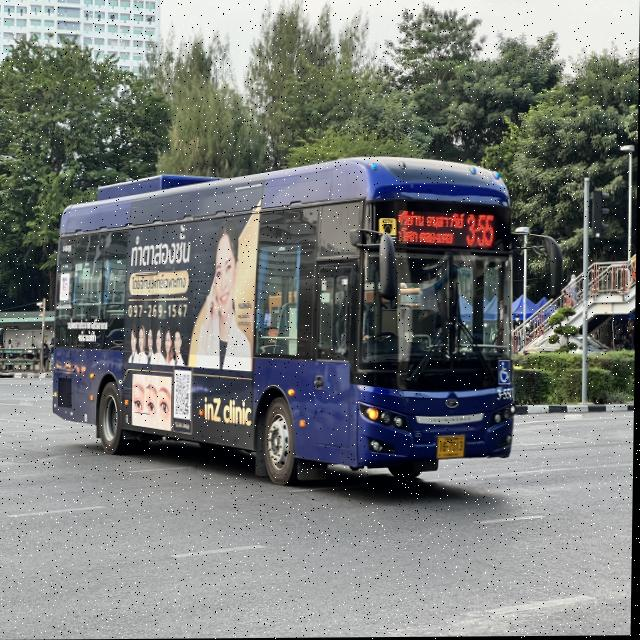Bus Line Number: (467, 209, 498, 251)
Bus Side Number: (495, 386, 516, 403), (62, 240, 76, 256)
Destination Sign: (397, 204, 466, 253)
TSB-Bus: (50, 157, 519, 488)
